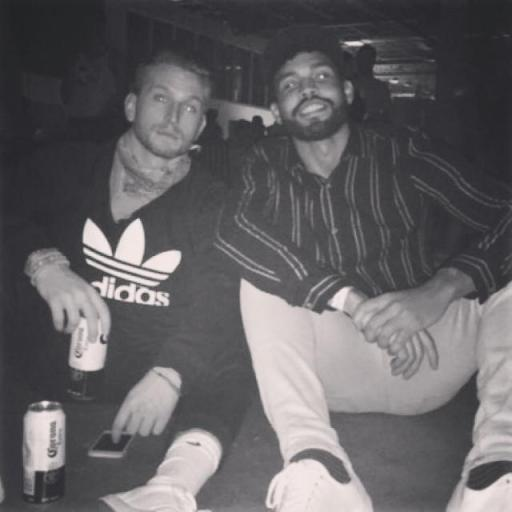Adidas: (76, 212, 184, 309)
